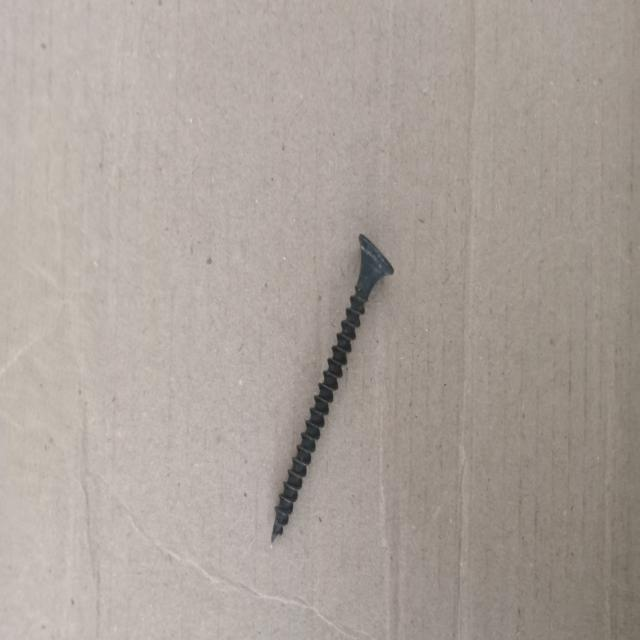screw: (270, 234, 394, 548)
